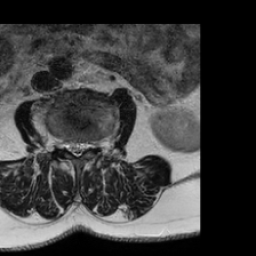CCS_stenosis: (74, 133, 81, 166)
LFS_normal: (88, 131, 98, 156)
LLS_normal: (81, 133, 88, 157)
RFS_normal: (57, 129, 66, 157)
RLS_normal: (66, 134, 74, 159)
